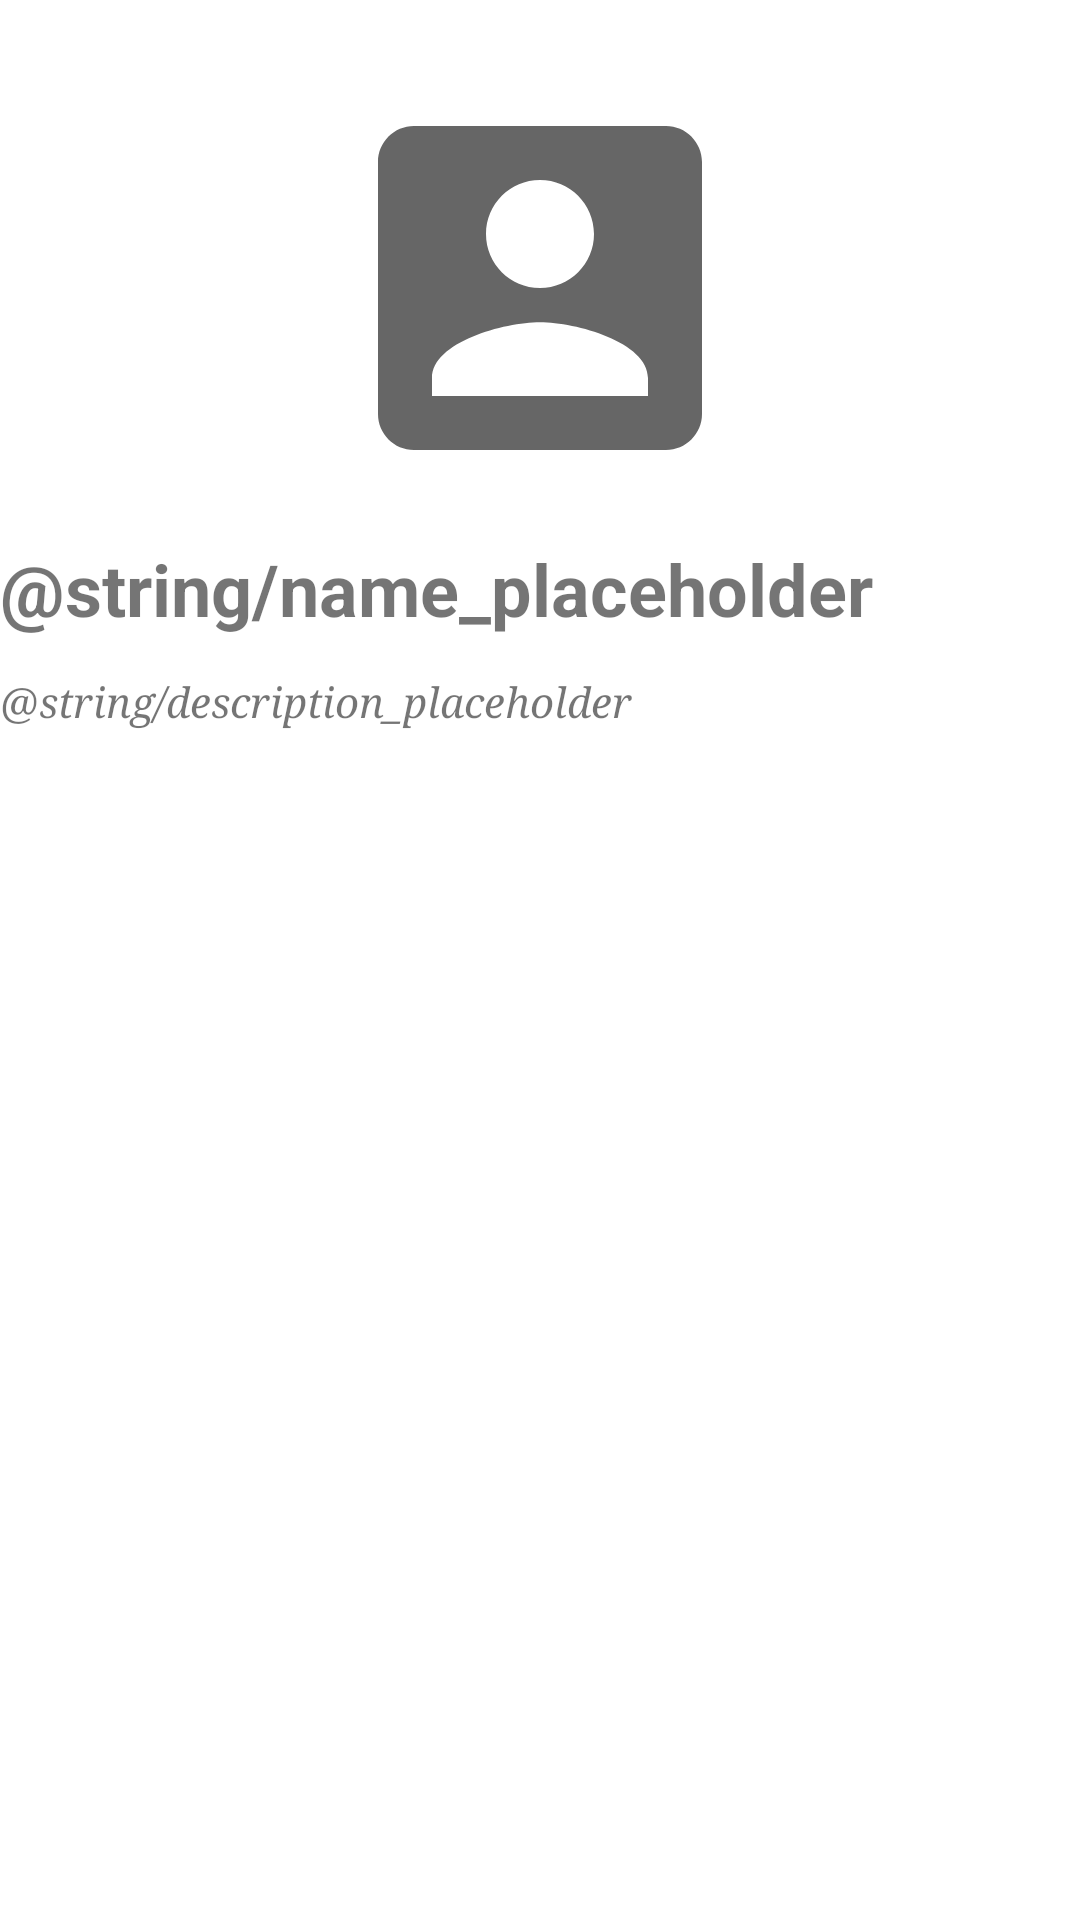

Icon click points for this 1080 × 1920 phone screenshot, format (x,y):
account box: (540,288)
